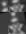recallP: (8, 12, 26, 34), (8, 0, 26, 12), (0, 0, 8, 12)
